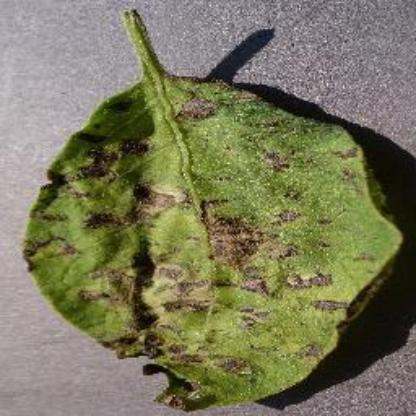Early-Blight: (25, 10, 406, 408)
